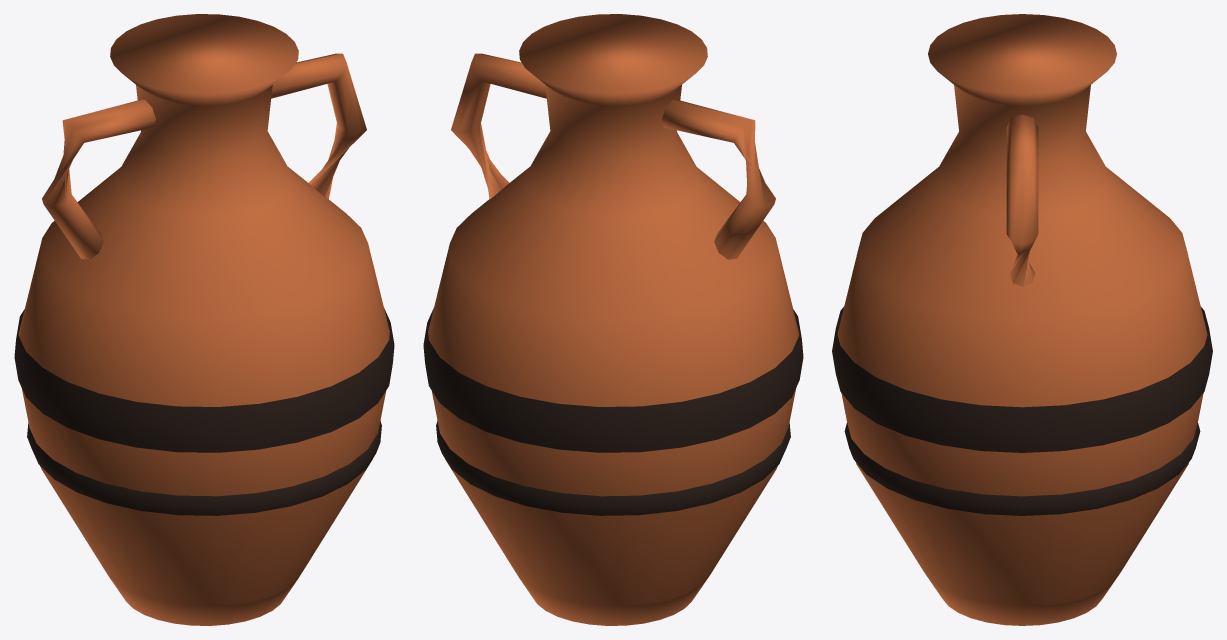
Rendered from anfora.glb.
The picture shows the model from 3 angles, left to right: view 1: azimuth 30°, elevation 25°; view 2: azimuth 150°, elevation 25°; view 3: azimuth 270°, elevation 25°; orthographic projection.
Parts seen in each view (by area): view 1: Anfora.001; view 2: Anfora.001; view 3: Anfora.001.
Part boxes in pixels (x1=…): Anfora.001: x1=14, y1=14, x2=394, y2=625; Anfora.001: x1=423, y1=14, x2=803, y2=625; Anfora.001: x1=832, y1=14, x2=1212, y2=625.
Size of the model in its own units: 0.604 by 0.94 by 0.604.
